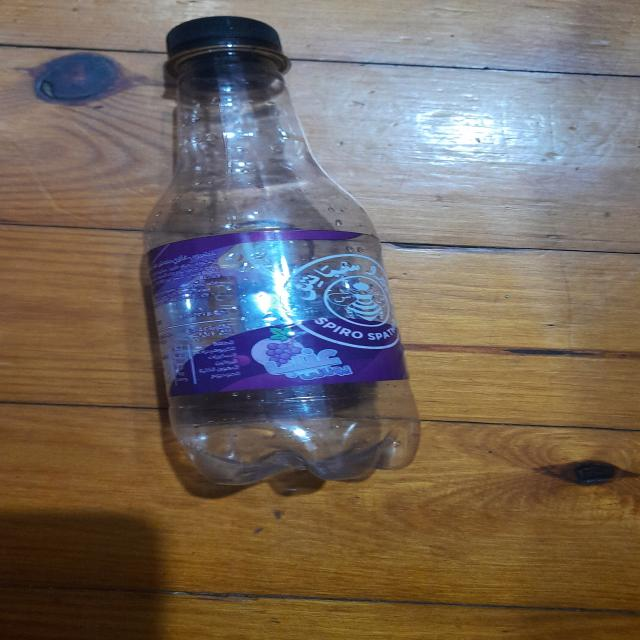plastic: (140, 16, 421, 502)
